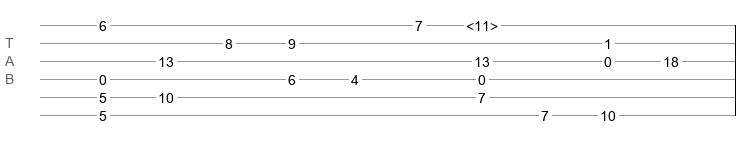0: (99, 72, 107, 82), (478, 72, 486, 82), (604, 54, 612, 64)
1: (604, 36, 612, 46)
10: (158, 90, 174, 100), (600, 108, 616, 118)
13: (158, 54, 174, 64), (474, 54, 490, 64)
18: (663, 54, 679, 64)
4: (351, 72, 359, 82)
5: (99, 108, 107, 118), (99, 90, 107, 100)
6: (99, 18, 107, 28), (288, 72, 296, 82)
7: (415, 18, 423, 28), (478, 90, 486, 100), (541, 108, 549, 118)
8: (225, 36, 233, 46)
9: (288, 36, 296, 46)
harmonic: (466, 18, 498, 28)
